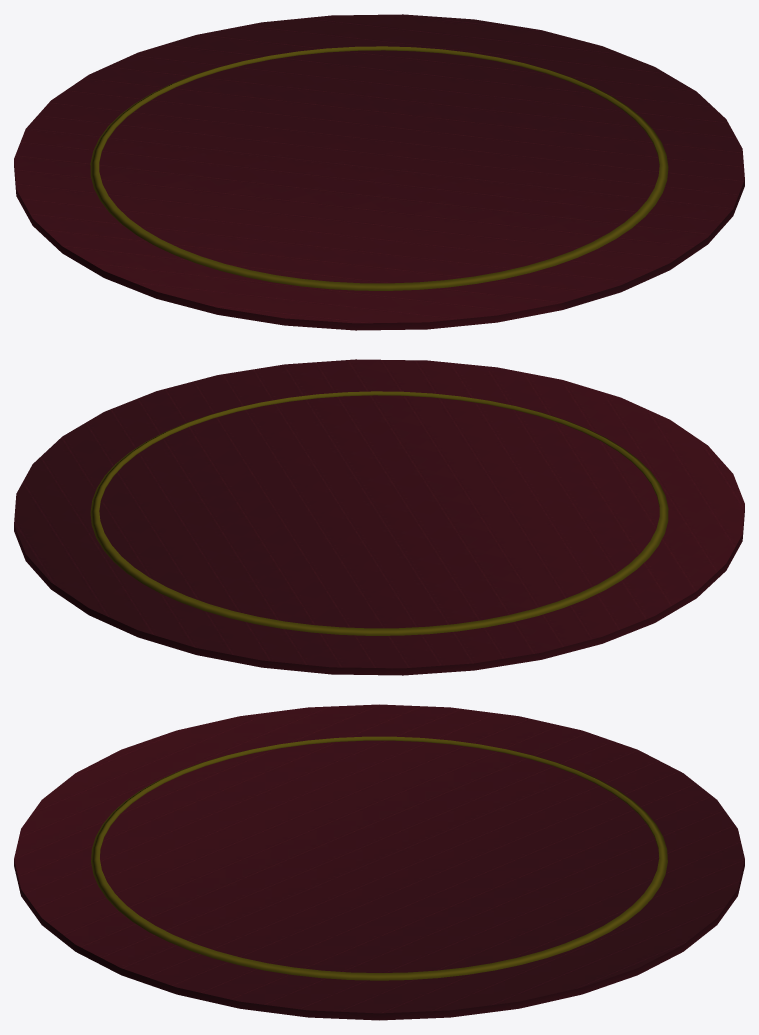
Rendered from state-default.glb.
The picture shows the model from 3 angles, top to bottom: view 1: azimuth 30°, elevation 25°; view 2: azimuth 150°, elevation 25°; view 3: azimuth 270°, elevation 25°; orthographic projection.
Visible parts, largest first — view 1: assetPrim:3501961e59bfd-19c73dd7348:rattan-placemat-base, assetPrim:3501961e59bfd-19c73dd7348:3dce77e7665ee8-19c6f8ae3; view 2: assetPrim:3501961e59bfd-19c73dd7348:rattan-placemat-base, assetPrim:3501961e59bfd-19c73dd7348:3dce77e7665ee8-19c6f8ae3; view 3: assetPrim:3501961e59bfd-19c73dd7348:rattan-placemat-base, assetPrim:3501961e59bfd-19c73dd7348:3dce77e7665ee8-19c6f8ae3.
Boxes of the visible parts, bbox=[...] form: assetPrim:3501961e59bfd-19c73dd7348:rattan-placemat-base: bbox=[14, 14, 744, 330]; assetPrim:3501961e59bfd-19c73dd7348:3dce77e7665ee8-19c6f8ae3: bbox=[90, 46, 668, 290]; assetPrim:3501961e59bfd-19c73dd7348:rattan-placemat-base: bbox=[14, 359, 744, 675]; assetPrim:3501961e59bfd-19c73dd7348:3dce77e7665ee8-19c6f8ae3: bbox=[90, 391, 668, 635]; assetPrim:3501961e59bfd-19c73dd7348:rattan-placemat-base: bbox=[14, 704, 744, 1020]; assetPrim:3501961e59bfd-19c73dd7348:3dce77e7665ee8-19c6f8ae3: bbox=[91, 736, 667, 980].
Size of the model in its own units: 0.38 by 0.0064 by 0.38.
Materials: 2 (1 with a texture image).
